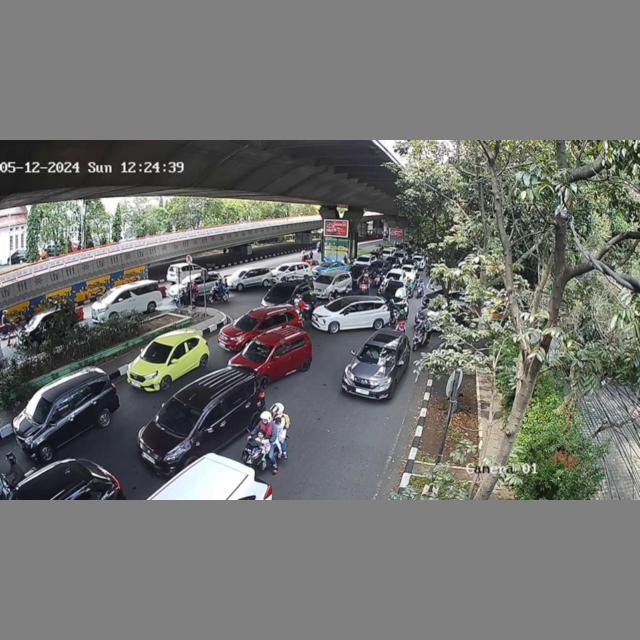windshield: (156, 396, 202, 439), (139, 340, 173, 366), (359, 344, 397, 367), (241, 340, 274, 362)
